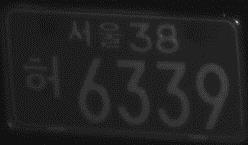3: (154, 57, 191, 130), (113, 56, 151, 127), (127, 19, 152, 53)
6: (78, 57, 113, 122)
8: (153, 20, 180, 55)
9: (194, 61, 231, 132)
서울_O: (68, 17, 123, 53)
허: (21, 52, 61, 101)
